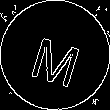M_N: (25, 24, 85, 86)
